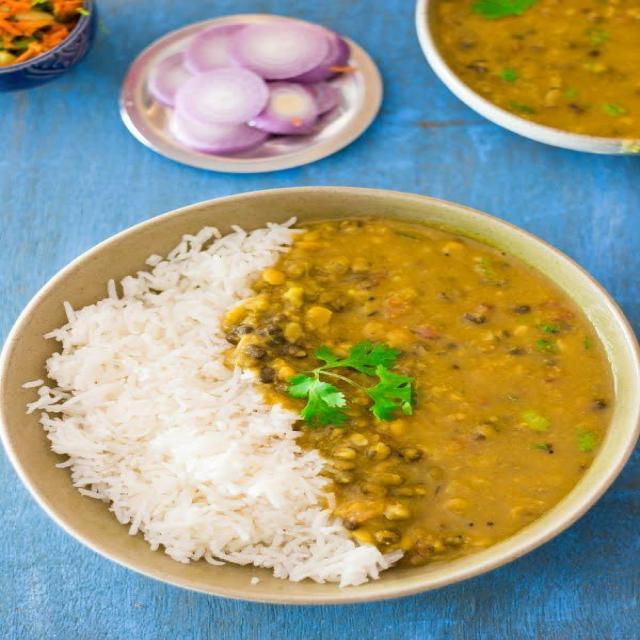dal: (229, 213, 615, 567), (431, 2, 637, 138)
rice: (44, 225, 392, 581)
